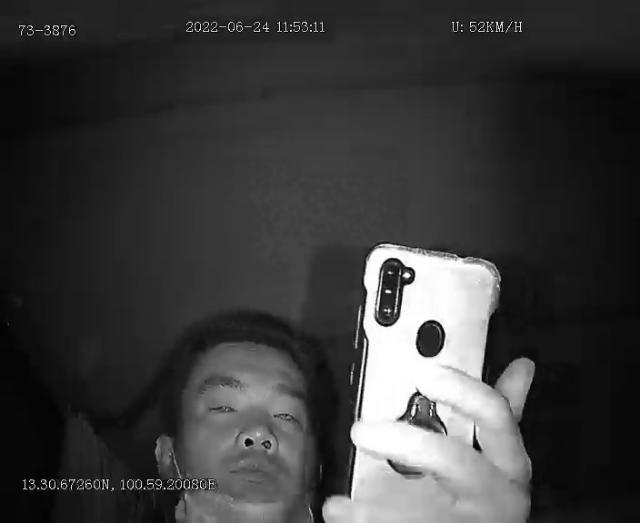PhoneUse: (339, 238, 506, 523)
SafeDriving: (264, 394, 306, 434), (198, 388, 246, 422)
